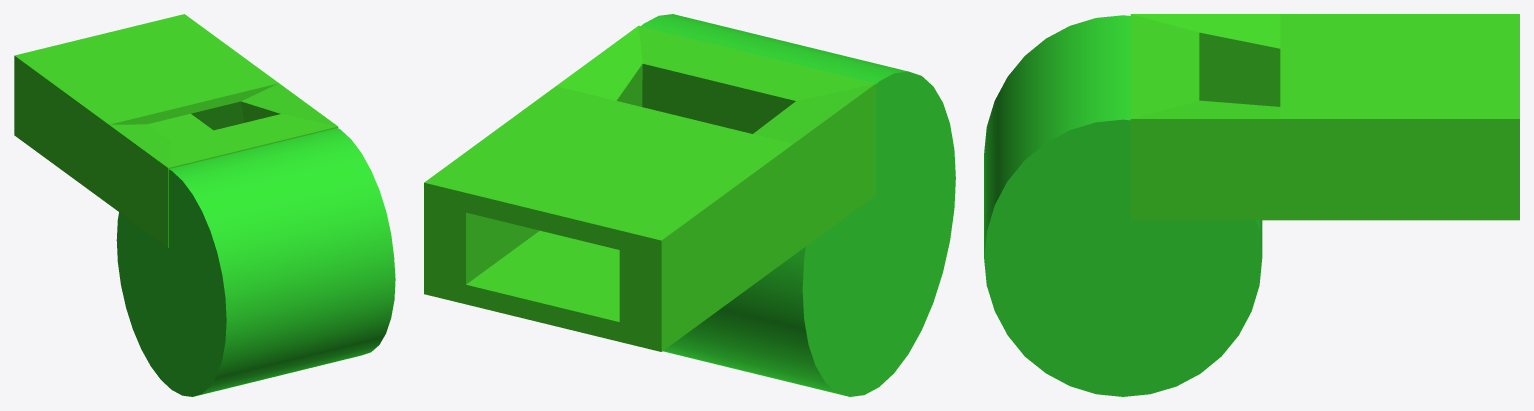
File: duduk.fbx
3 renders of one model, left to right at view 1: azimuth 30°, elevation 25°; view 2: azimuth 150°, elevation 25°; view 3: azimuth 270°, elevation 25°, orthographic. The views are drawn at different scales.
Parts seen in each view (by area): view 1: Cylinder, Cube; view 2: Cube, Cylinder; view 3: Cube, Cylinder.
Part boxes in pixels (bbox=[...]): Cylinder: bbox=[116, 128, 395, 396]; Cube: bbox=[14, 14, 338, 247]; Cube: bbox=[424, 25, 875, 351]; Cylinder: bbox=[641, 14, 955, 396]; Cube: bbox=[1130, 14, 1519, 220]; Cylinder: bbox=[984, 15, 1262, 396].
Bounding box in the file's own units: 120 × 148 × 258.
